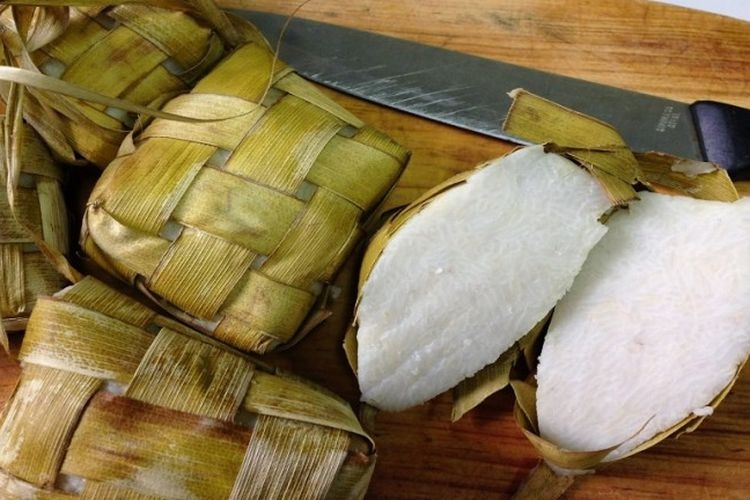ketupat: (82, 41, 413, 354)
